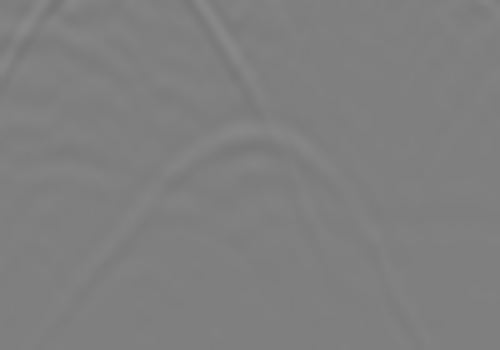hyperbola: (92, 121, 408, 307)
